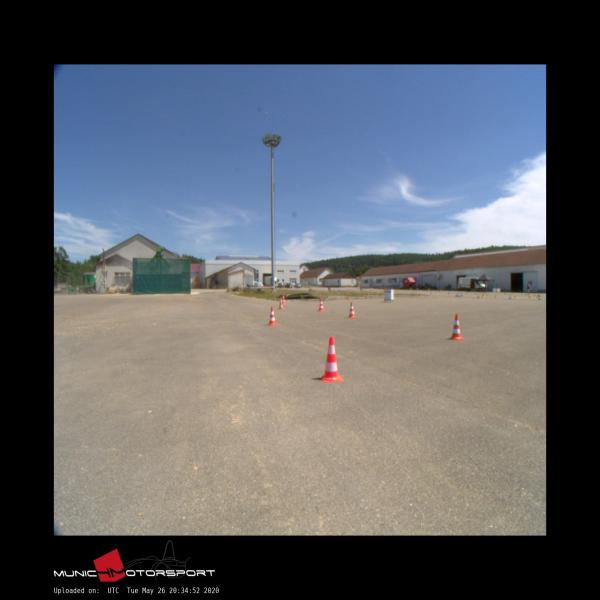large_orange_cone: (319, 337, 343, 381), (450, 314, 462, 338), (267, 306, 278, 324), (348, 302, 356, 317), (318, 298, 324, 311), (278, 297, 284, 309), (282, 294, 285, 304)
